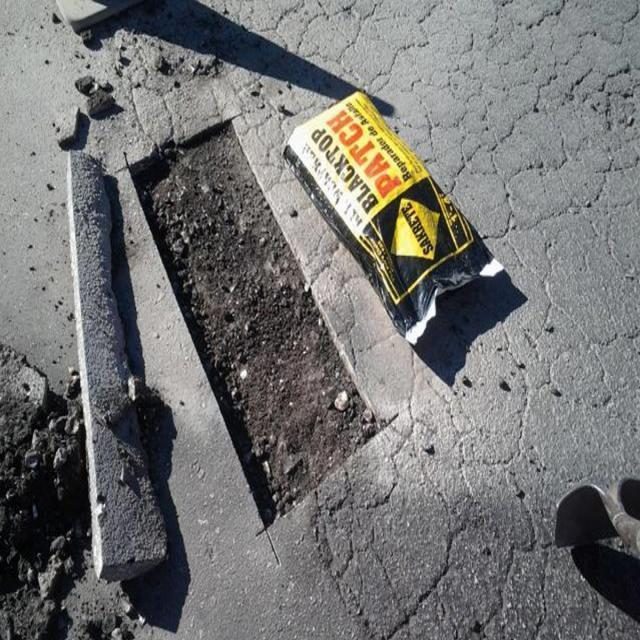Pothole: (131, 123, 397, 528)
